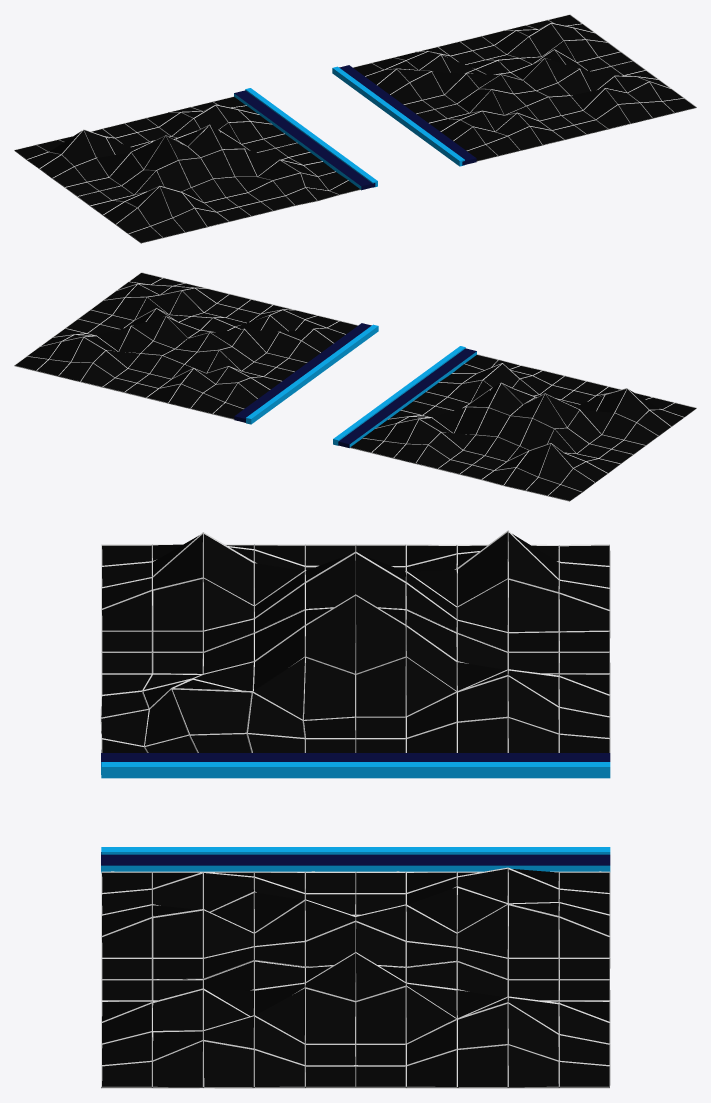
File: 1v_new_platform_mountaine.fbx
3 renders of one model, top to bottom at view 1: azimuth 30°, elevation 25°; view 2: azimuth 150°, elevation 25°; view 3: azimuth 270°, elevation 25°, orthographic. The views are drawn at different scales.
Parts seen in each view (by area): view 1: Plane.001, Plane, Cube.001; view 2: Plane.001, Plane, Cube.001; view 3: Plane, Plane.001, Cube.001.
Boxes of the visible parts, x1,y1,x2,y2 form: Plane.001: (14, 96, 360, 243); Plane: (352, 14, 696, 161); Cube.001: (234, 65, 476, 190); Plane.001: (350, 354, 696, 501); Plane: (14, 272, 358, 419); Cube.001: (234, 323, 476, 448); Plane: (101, 867, 610, 1088); Plane.001: (100, 530, 610, 752); Cube.001: (101, 753, 610, 873).
Bounding box in the file's own units: 4029 × 309 × 1600.
